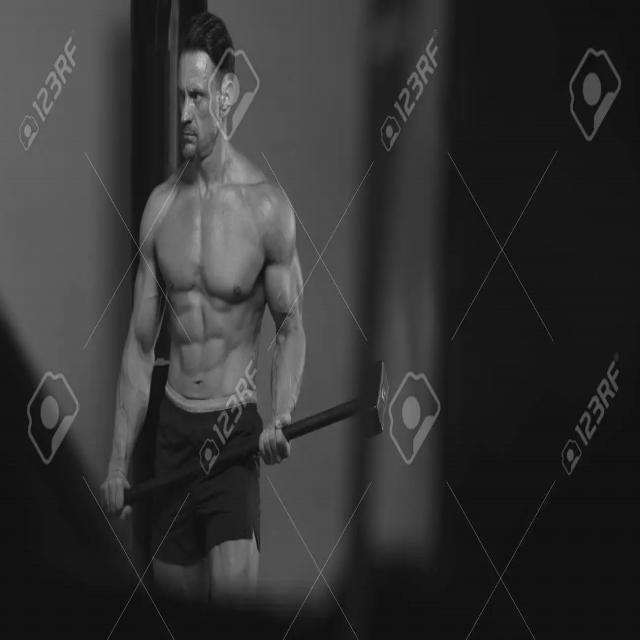hammer: (94, 349, 396, 534)
